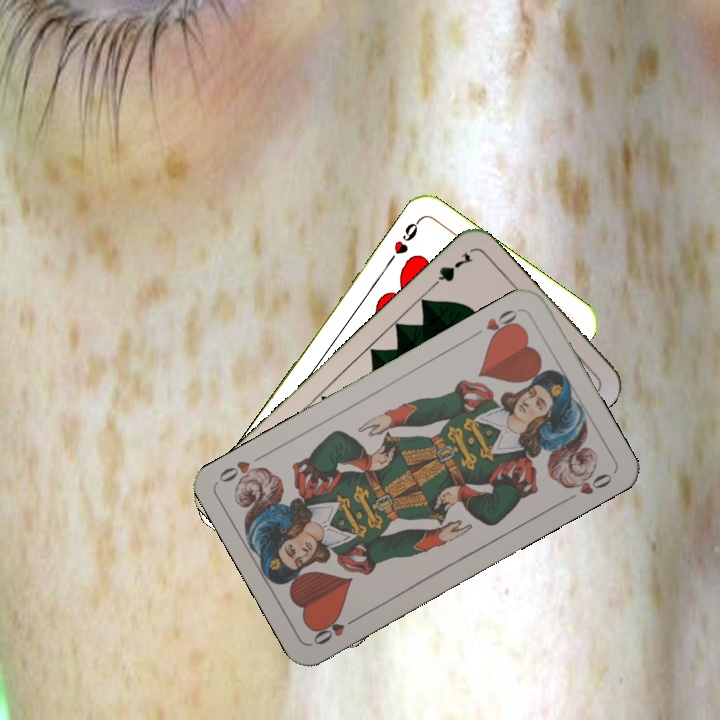G7: (425, 248, 476, 293)
H9: (383, 215, 423, 266)
HO: (468, 305, 522, 343), (309, 612, 363, 648)
